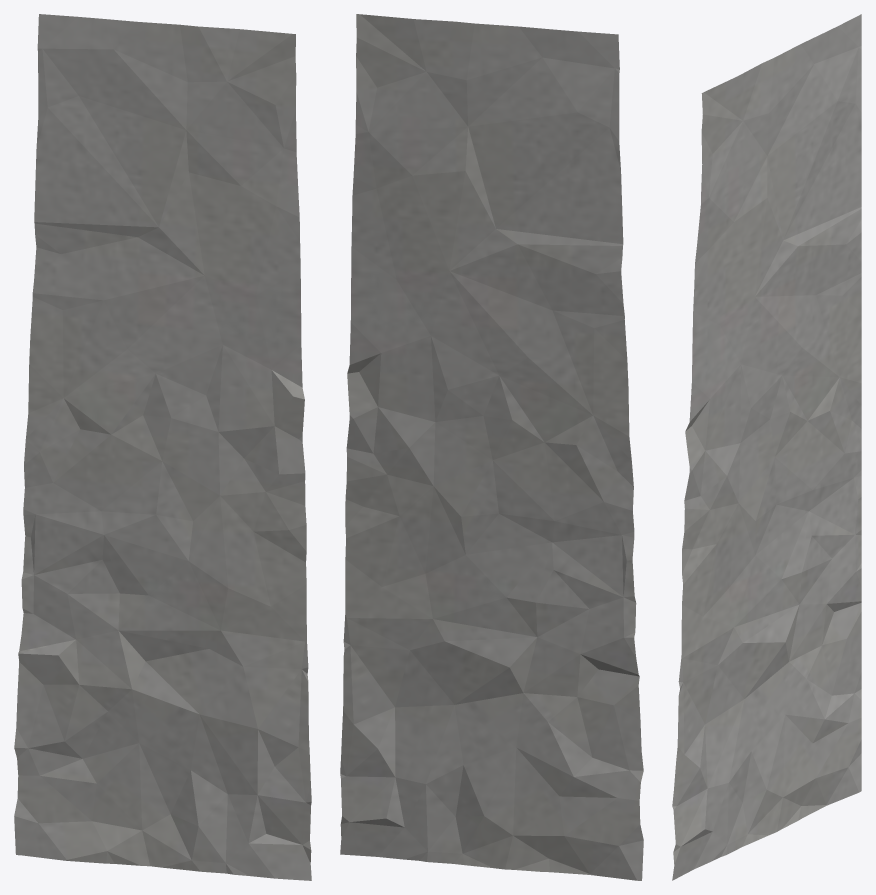
3 renders of one model, left to right at view 1: azimuth 30°, elevation 25°; view 2: azimuth 210°, elevation 25°; view 3: azimuth 270°, elevation 25°, orthographic. The views are drawn at different scales.
Bounding box in the file's own units: 0.2068 × 0.8374 × 0.1827.
1 material, 1 textured.
